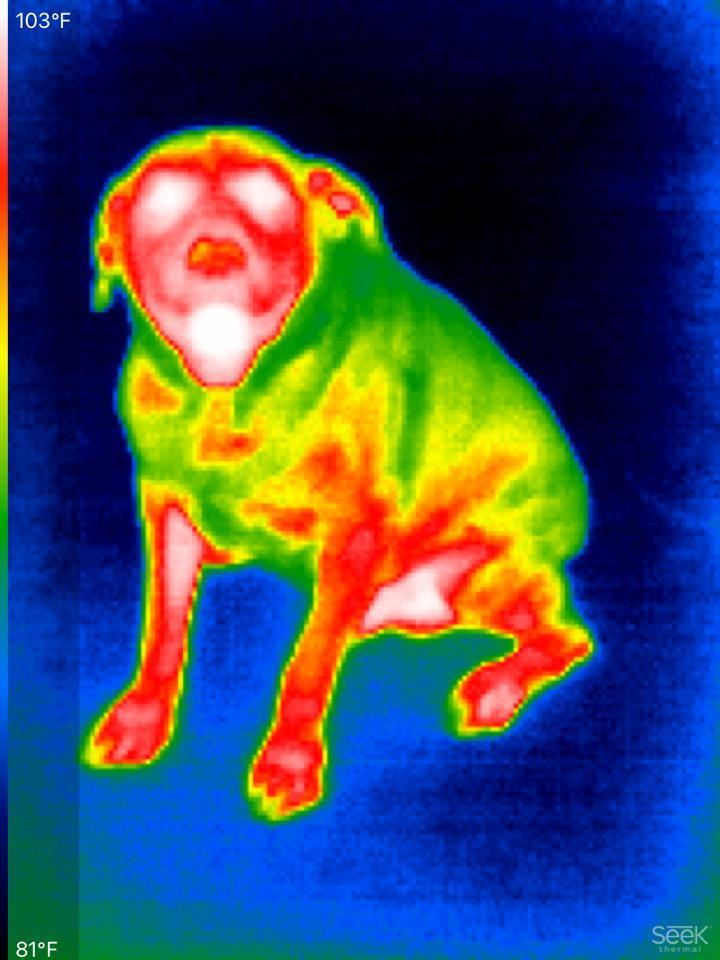dog: (75, 95, 611, 829)
